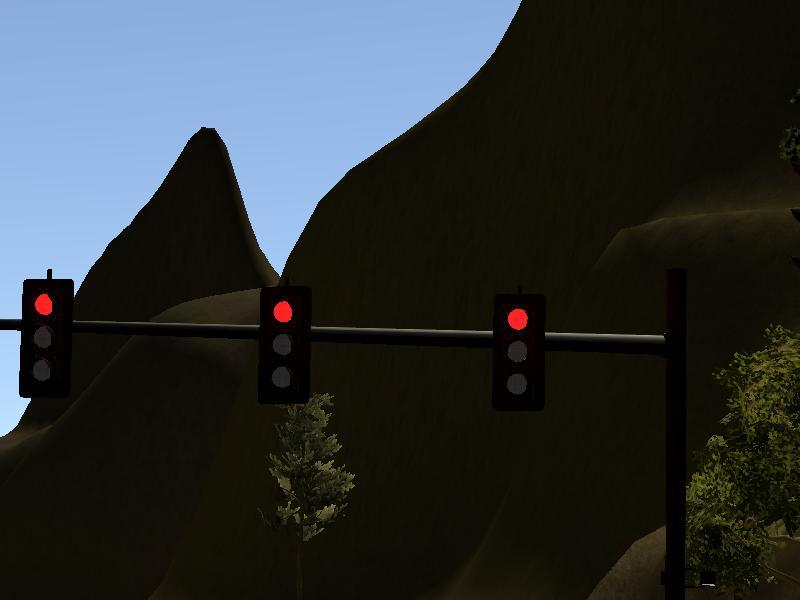Red: (21, 279, 71, 392), (493, 300, 545, 407), (259, 290, 308, 401)
